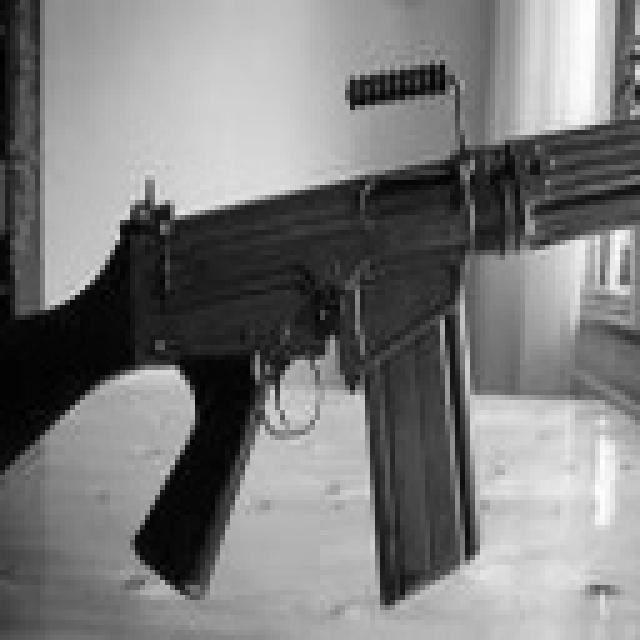Rifle: (9, 41, 640, 639)
